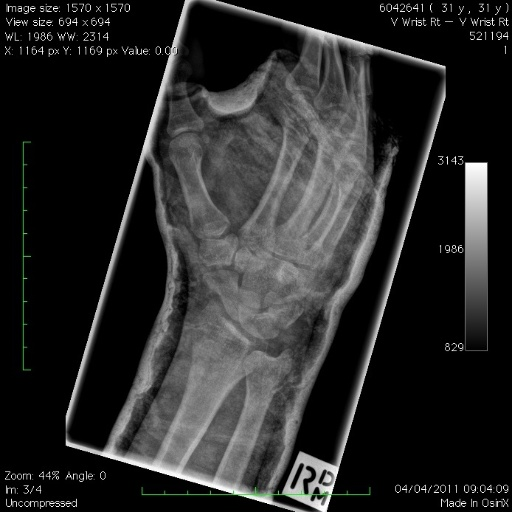hand: (146, 29, 402, 359)
